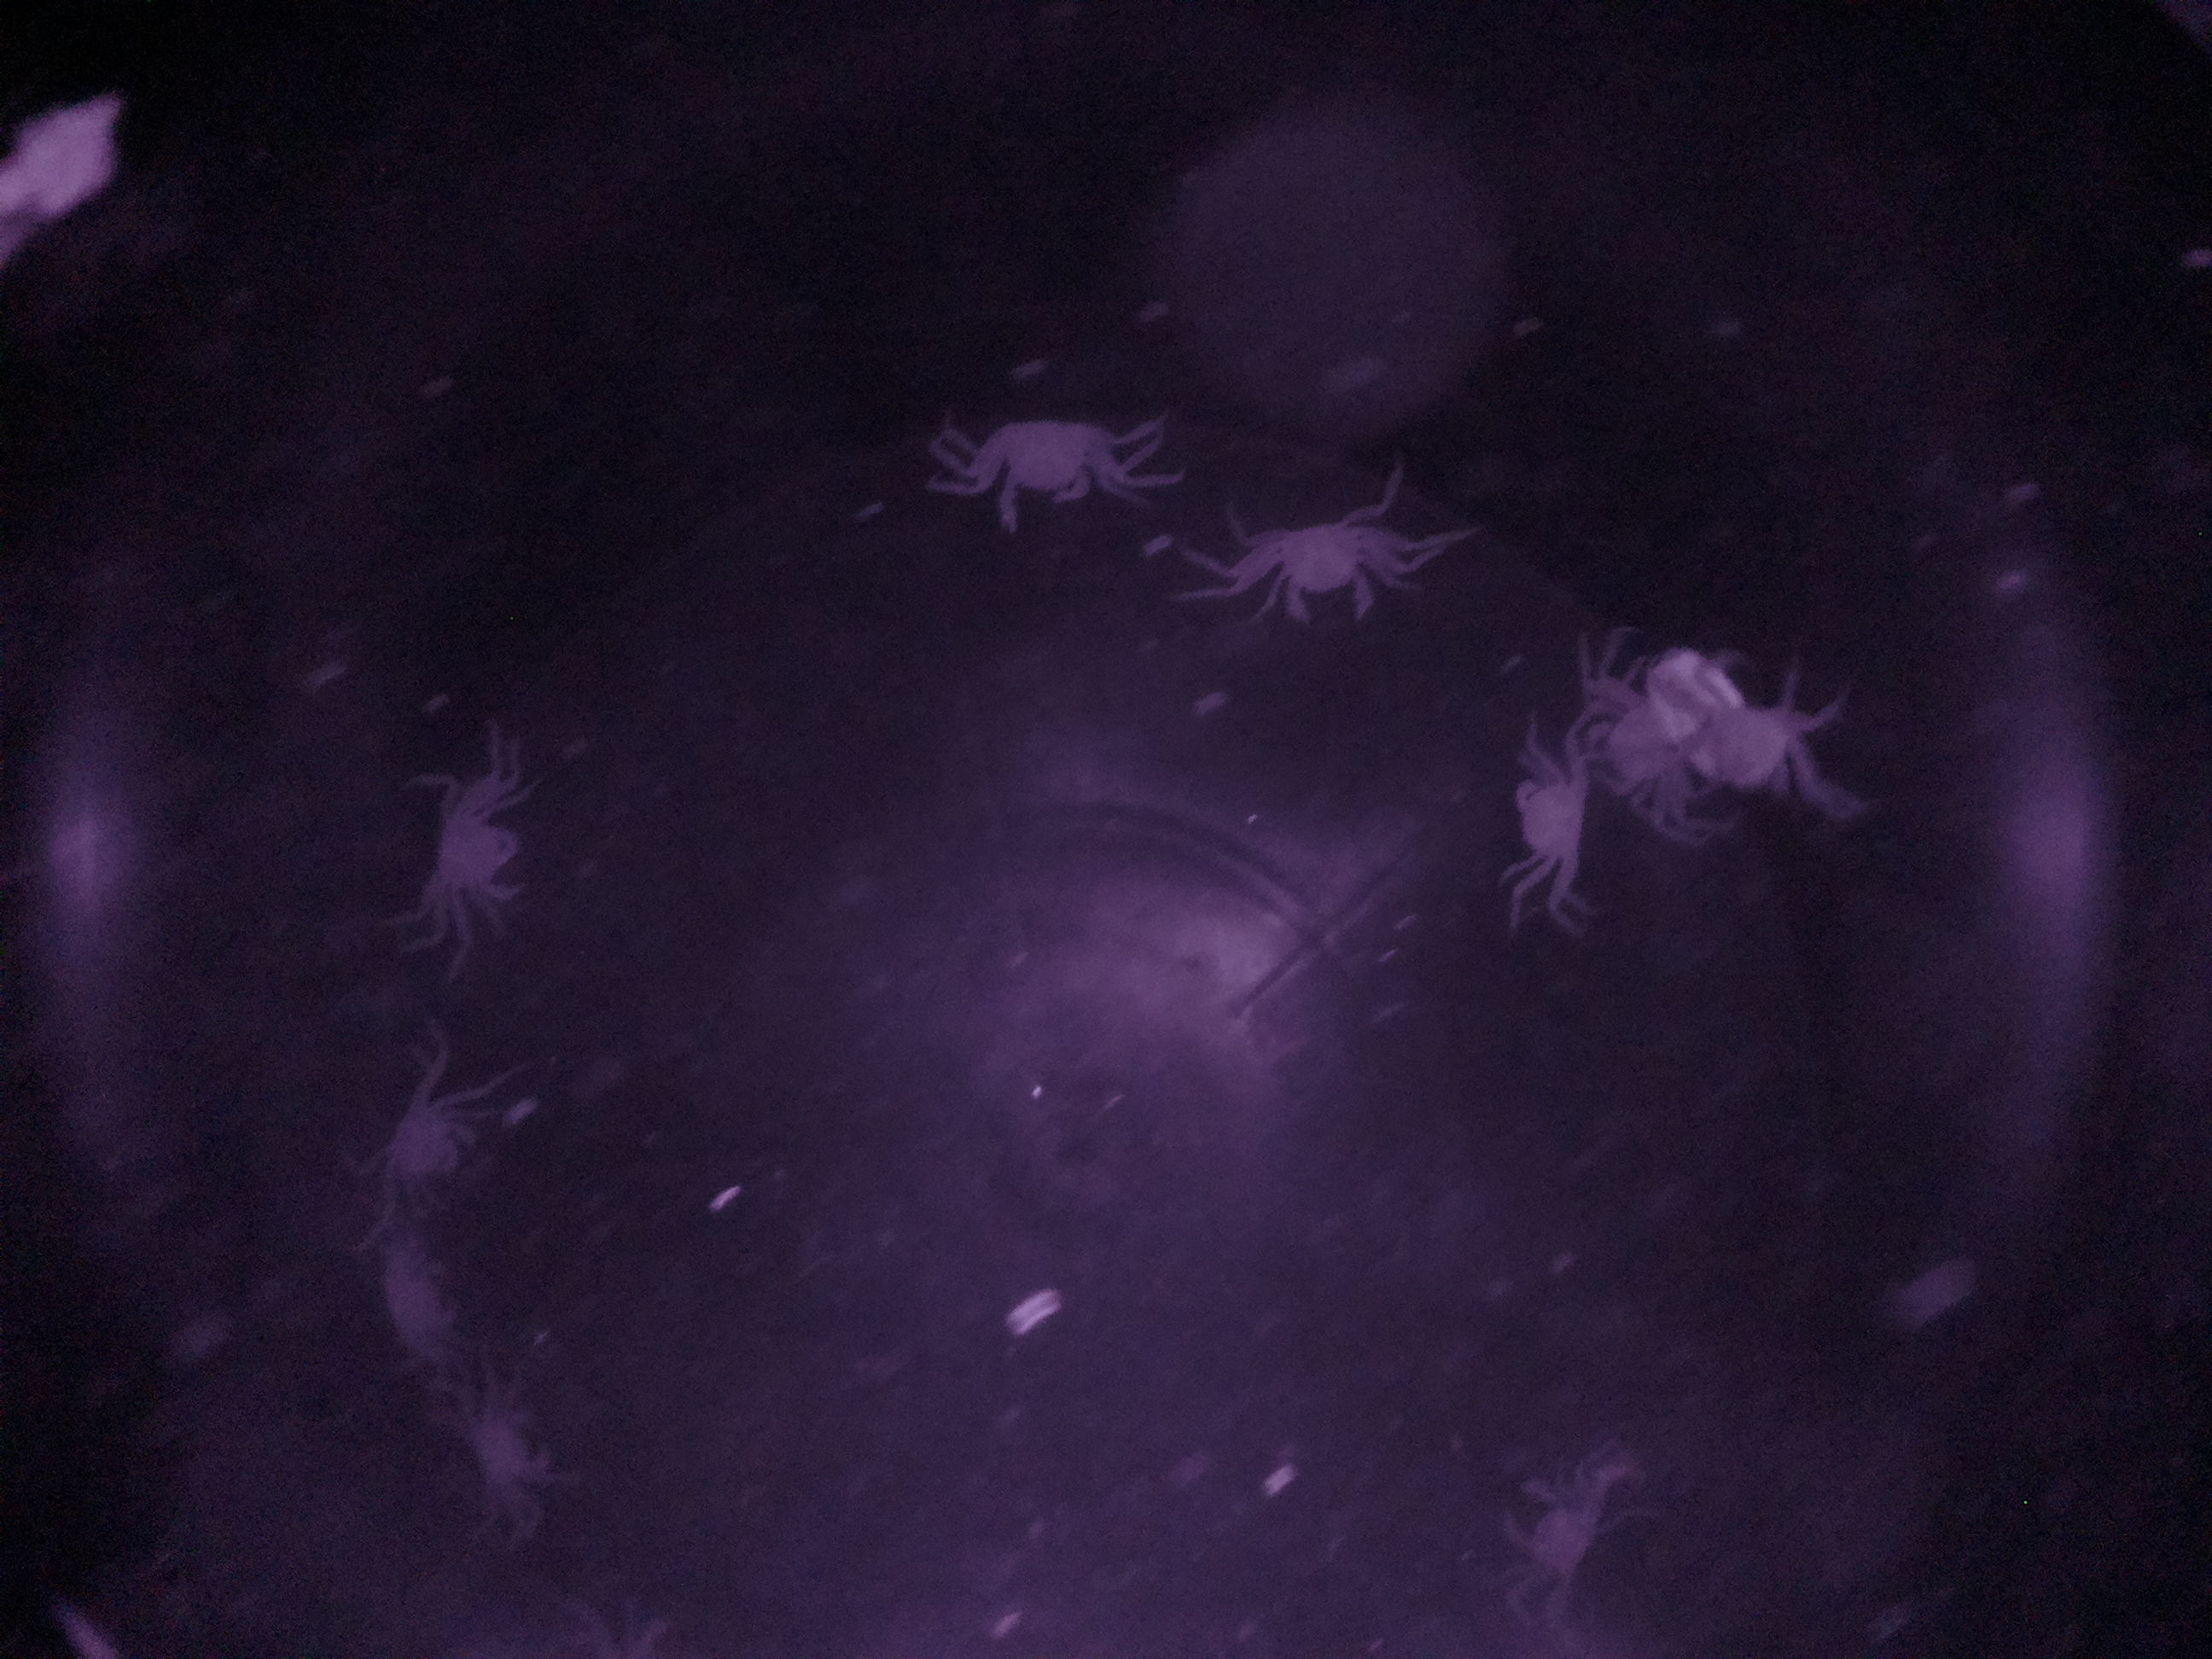Crab: (1214, 472, 1420, 648), (934, 383, 1141, 547), (354, 1030, 505, 1239), (1477, 1443, 1634, 1631), (399, 758, 556, 941), (1484, 709, 1618, 915)
